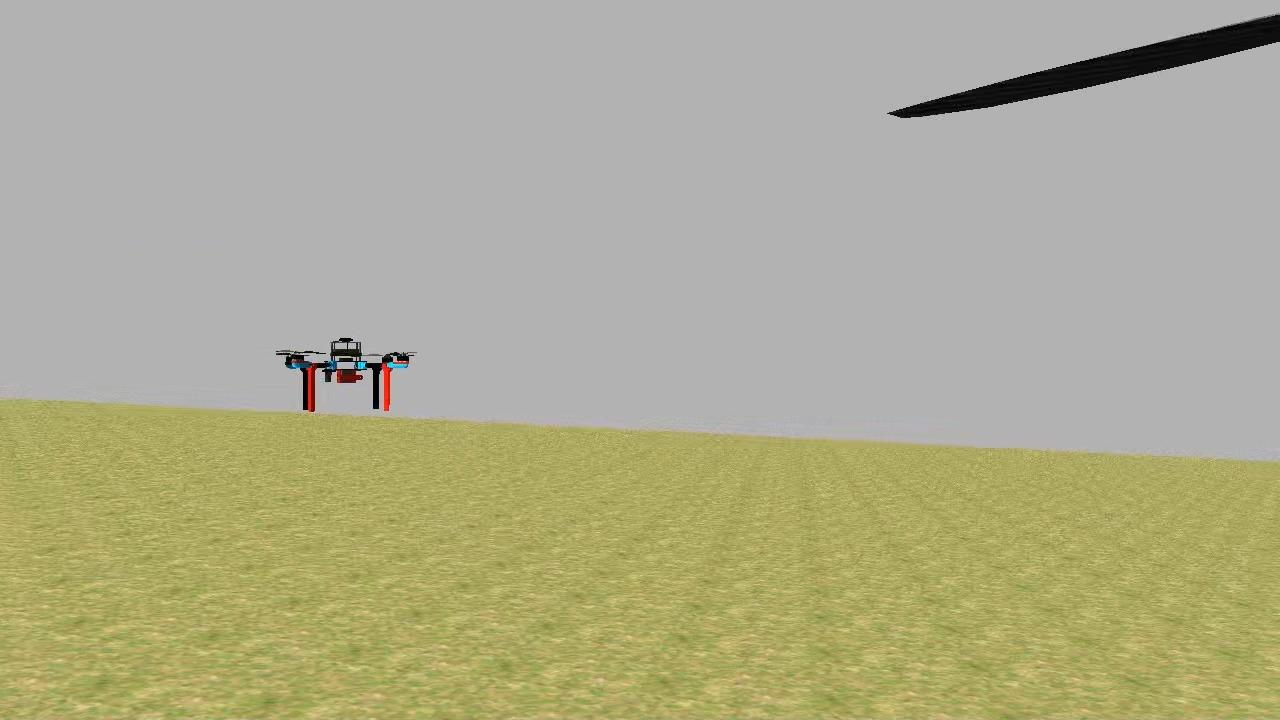UAV: (276, 330, 418, 417)
